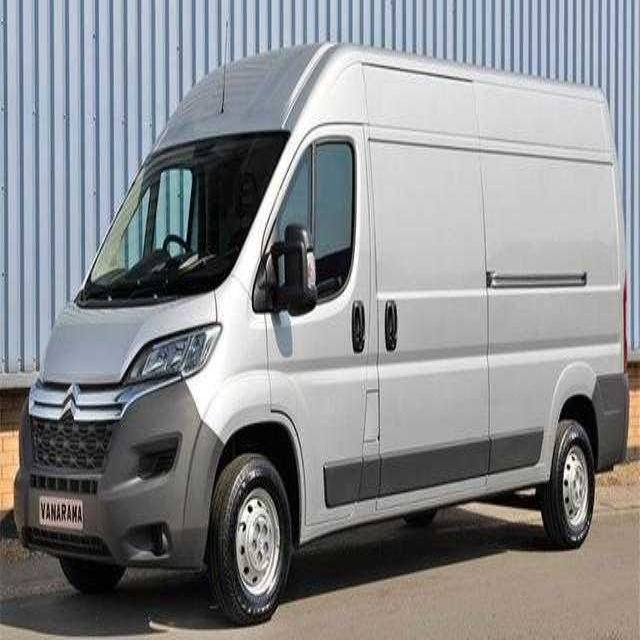Van: (13, 43, 629, 626)
